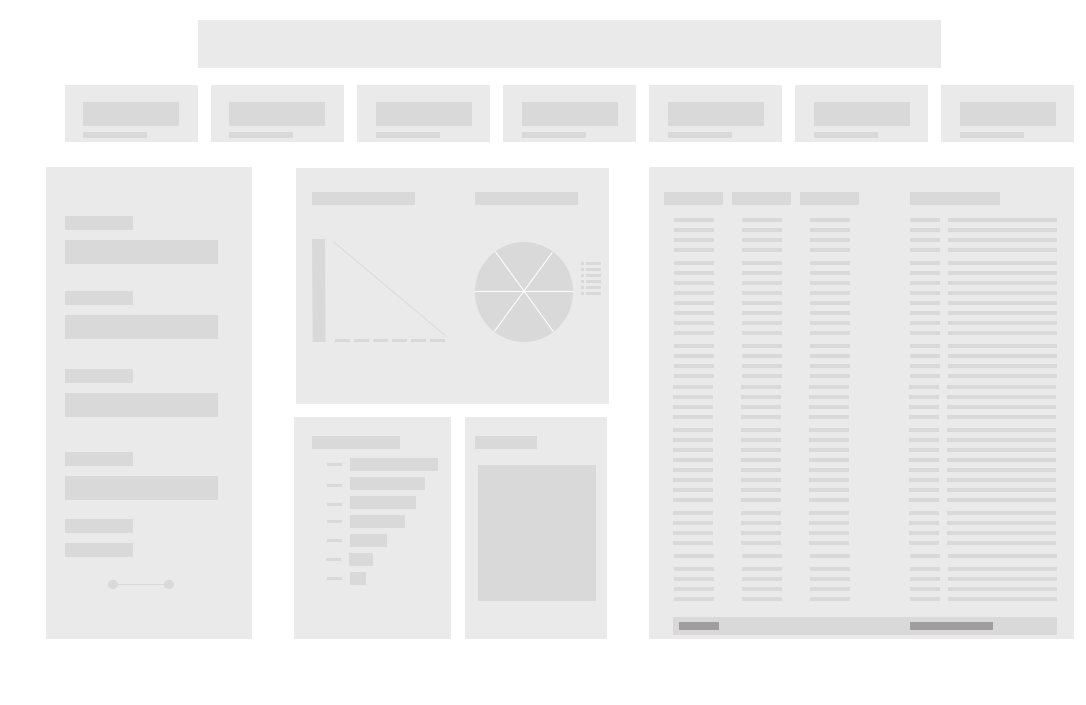

What the dashboard file says about the page in this screenshot:
{"tool":"powerbi","page":{"name":"Page 1","canvas":[1280,720],"ordinal":0},"visuals":[{"type":"cardVisual","fields":{"Data":["Fact_Car_Sales.Total_Sales"]},"box":[0,85.4,208.7,95.7],"z":0},{"type":"cardVisual","fields":{"Data":["Fact_Car_Sales.Total_Vehicles_Sold"]},"box":[167.3,81.9,222.5,96.6],"z":1000},{"type":"cardVisual","fields":{"Data":["Fact_Car_Sales.Average_Selling_Price"]},"box":[344.2,73.3,245,105.2],"z":2000},{"type":"cardVisual","fields":{"Data":["Fact_Car_Sales.Average_Odometer"]},"box":[714.2,78.5,243.2,100.1],"z":3000},{"type":"cardVisual","fields":{"Data":["Fact_Car_Sales.Average_MMR"]},"box":[539.1,78.5,201.8,100.1],"z":4000},{"type":"clusteredBarChart","fields":{"Category":["Fact_Car_Sales.Make"],"Y":["Fact_Car_Sales.Total_Sales"]},"box":[137.8,443.3,300,276.7],"z":5000},{"type":"lineChart","fields":{"Category":["Fact_Car_Sales.Saledate"],"Y":["Fact_Car_Sales.Total_Sales"]},"box":[138.9,195.6,358.9,247.8],"z":6000},{"type":"pieChart","fields":{"Category":["Fact_Car_Sales.Body"],"Y":["CountNonNull(Fact_Car_Sales.Vin)"]},"box":[497.7,178.5,281.2,280.3],"z":7000},{"type":"map","fields":{"Category":["Fact_Car_Sales.State"],"Size":["Fact_Car_Sales.Total_Sales"]},"box":[437.8,443.3,341.1,276.7],"z":8000},{"type":"tableEx","fields":{"Values":["Fact_Car_Sales.Make","Fact_Car_Sales.Model","Fact_Car_Sales.State","Sum(Fact_Car_Sales.Sellingprice)","Fact_Car_Sales.Seller"]},"box":[786.4,180,493.6,524.5],"z":9000},{"type":"slicer","fields":{"Values":["Fact_Car_Sales.Make"]},"box":[0.9,211.3,138,60.4],"z":10000},{"type":"slicer","fields":{"Values":["Fact_Car_Sales.State"]},"box":[0,271.7,138,63.8],"z":11000},{"type":"slicer","fields":{"Values":["Fact_Car_Sales.Body"]},"box":[0.9,457.1,138,65.6],"z":12000},{"type":"slicer","fields":{"Values":["Fact_Car_Sales.Transmission"]},"box":[0.9,395.9,138,61.2],"z":13000},{"type":"slicer","fields":{"Values":["Fact_Car_Sales.Color"]},"box":[0,335.5,138,60.4],"z":14000},{"type":"slicer","fields":{"Values":["Fact_Car_Sales.Year"]},"box":[0.9,522.7,128.5,150.1],"z":15000},{"type":"cardVisual","fields":{"Data":["Fact_Car_Sales.Max_Selling_Price"]},"box":[887.5,75,207,106.1],"z":16000},{"type":"cardVisual","fields":{"Data":["Fact_Car_Sales.Min_Selling_Price"]},"box":[1074.7,75.9,205.3,104.4],"z":17000},{"type":"textbox","box":[104.4,8.6,1081.6,64.7],"z":19001}]}

Visuals, with their boxes on the page's 1280x720 design canvas (x1, y1, x2, y2). These are canvas units, not pixel positions in the 1086x705 screenshot, which may show the page scaled, cropped or inside an application window:
cardVisual - Fact_Car_Sales.Total_Sales: x1=0 y1=85 x2=209 y2=181
cardVisual - Fact_Car_Sales.Total_Vehicles_Sold: x1=167 y1=82 x2=390 y2=178
cardVisual - Fact_Car_Sales.Average_Selling_Price: x1=344 y1=73 x2=589 y2=178
cardVisual - Fact_Car_Sales.Average_Odometer: x1=714 y1=78 x2=957 y2=179
cardVisual - Fact_Car_Sales.Average_MMR: x1=539 y1=78 x2=741 y2=179
clusteredBarChart - Fact_Car_Sales.Make x Fact_Car_Sales.Total_Sales: x1=138 y1=443 x2=438 y2=720
lineChart - Fact_Car_Sales.Saledate x Fact_Car_Sales.Total_Sales: x1=139 y1=196 x2=498 y2=443
pieChart - Fact_Car_Sales.Body x CountNonNull(Fact_Car_Sales.Vin): x1=498 y1=178 x2=779 y2=459
map - Fact_Car_Sales.State x Fact_Car_Sales.Total_Sales: x1=438 y1=443 x2=779 y2=720
tableEx - Fact_Car_Sales.Make x Fact_Car_Sales.Model: x1=786 y1=180 x2=1280 y2=704
slicer - Fact_Car_Sales.Make: x1=1 y1=211 x2=139 y2=272
slicer - Fact_Car_Sales.State: x1=0 y1=272 x2=138 y2=336
slicer - Fact_Car_Sales.Body: x1=1 y1=457 x2=139 y2=523
slicer - Fact_Car_Sales.Transmission: x1=1 y1=396 x2=139 y2=457
slicer - Fact_Car_Sales.Color: x1=0 y1=336 x2=138 y2=396
slicer - Fact_Car_Sales.Year: x1=1 y1=523 x2=129 y2=673
cardVisual - Fact_Car_Sales.Max_Selling_Price: x1=888 y1=75 x2=1094 y2=181
cardVisual - Fact_Car_Sales.Min_Selling_Price: x1=1075 y1=76 x2=1280 y2=180
textbox: x1=104 y1=9 x2=1186 y2=73
